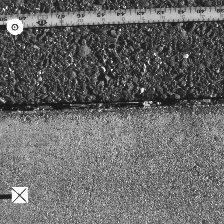circle: (5, 18, 24, 35)
crack: (1, 95, 223, 113)
square: (11, 186, 28, 203)
